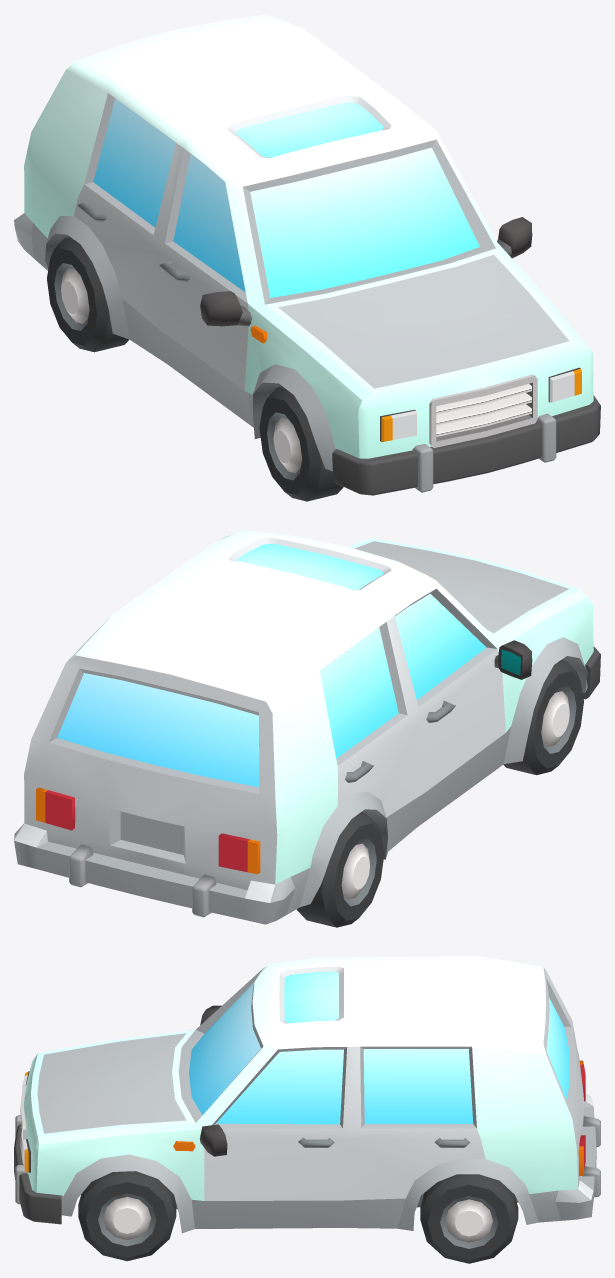
The model's file is Car_14.glb.
The picture shows the model from 3 angles, top to bottom: view 1: azimuth 30°, elevation 25°; view 2: azimuth 150°, elevation 25°; view 3: azimuth 270°, elevation 25°; orthographic projection. The views are drawn at different scales.
Parts seen in each view (by area): view 1: Car_14, Wheel_001, Wheel_002; view 2: Car_14, Wheel_002, Wheel_001; view 3: Car_14, Wheel_004, Wheel_003.
Boxes of the visible parts, left/top/right/bottom form: Car_14: left=14, top=14, right=600, bottom=495; Wheel_001: left=259, top=386, right=343, bottom=501; Wheel_002: left=47, top=236, right=128, bottom=352; Car_14: left=14, top=530, right=600, bottom=924; Wheel_002: left=296, top=812, right=384, bottom=927; Wheel_001: left=503, top=659, right=583, bottom=775; Car_14: left=14, top=956, right=600, bottom=1233; Wheel_004: left=420, top=1174, right=518, bottom=1263; Wheel_003: left=78, top=1171, right=176, bottom=1261.
Bounding box in the file's own units: 2.43 × 1.88 × 4.57.
2 materials, 2 textured.
